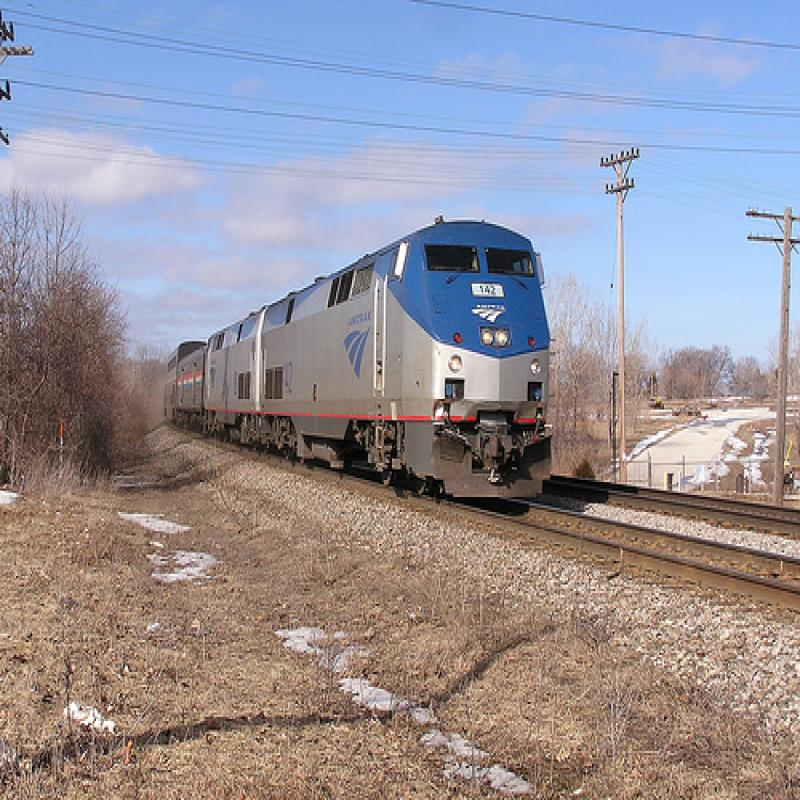train: (163, 217, 556, 500)
